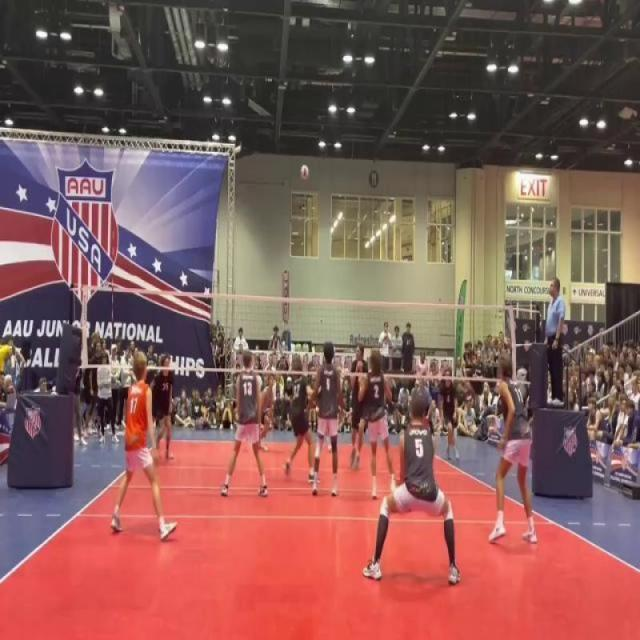volleyball: (300, 162, 310, 182)
